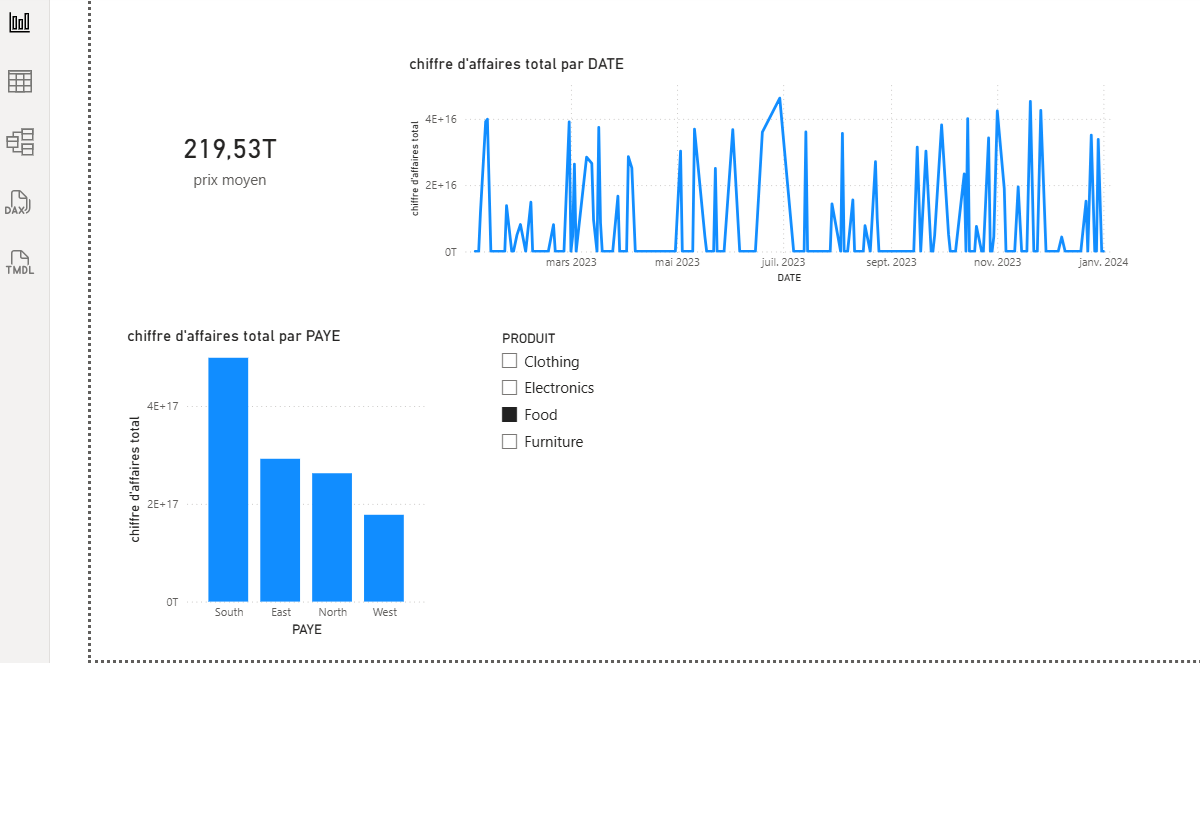

Layout of this report page (visuals, bound fields, positions):
{"tool":"powerbi","page":{"name":"Page 1","canvas":[1280,720],"ordinal":0},"visuals":[{"type":"textbox","box":[10,0,280,280],"z":0},{"type":"card","fields":{"Values":["sales_data.prix moyen"]},"box":[9.4,35.9,279.7,281.6],"z":1000},{"type":"lineChart","fields":{"Category":["sales_data.DATE"],"Y":["sales_data.chiffre d'affaires total"]},"box":[338.3,66.1,786.1,251.3],"z":2000},{"type":"clusteredColumnChart","fields":{"Category":["sales_data.PAYE"],"Y":["sales_data.chiffre d'affaires total"]},"box":[34,359.1,332.6,340.2],"z":2001},{"type":"slicer","fields":{"Values":["sales_data.PRODUIT"]},"box":[430.9,359.1,757.8,340.2],"z":2002}]}

Visuals, with their boxes on the page's 1280x720 design canvas (x1, y1, x2, y2). These are canvas units, not pixel positions in the 1200x819 screenshot, which may show the page scaled, cropped or inside an application window:
textbox: bbox=(10, 0, 290, 280)
card - sales_data.prix moyen: bbox=(9, 36, 289, 318)
lineChart - sales_data.DATE x sales_data.chiffre d'affaires total: bbox=(338, 66, 1124, 317)
clusteredColumnChart - sales_data.PAYE x sales_data.chiffre d'affaires total: bbox=(34, 359, 367, 699)
slicer - sales_data.PRODUIT: bbox=(431, 359, 1189, 699)
